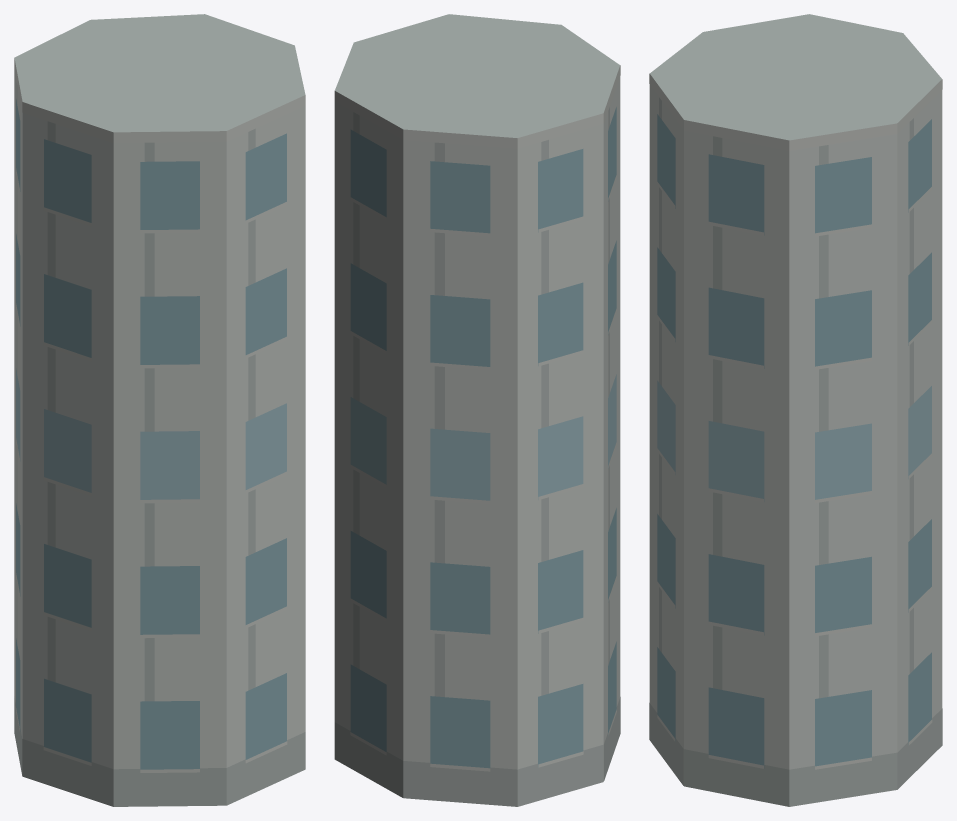
File: survey-upis-32647312.glb
3 renders of one model, left to right at view 1: azimuth 30°, elevation 25°; view 2: azimuth 150°, elevation 25°; view 3: azimuth 270°, elevation 25°, orthographic.
Visible parts, largest first — view 1: survey-upis-32647312.tmp; view 2: survey-upis-32647312.tmp; view 3: survey-upis-32647312.tmp.
Part boxes in pixels (<box>): survey-upis-32647312.tmp: <box>14,14,305,806</box>; survey-upis-32647312.tmp: <box>334,14,620,806</box>; survey-upis-32647312.tmp: <box>649,14,942,806</box>.
Bounding box in the file's own units: 6.21 × 15.25 × 6.08.
